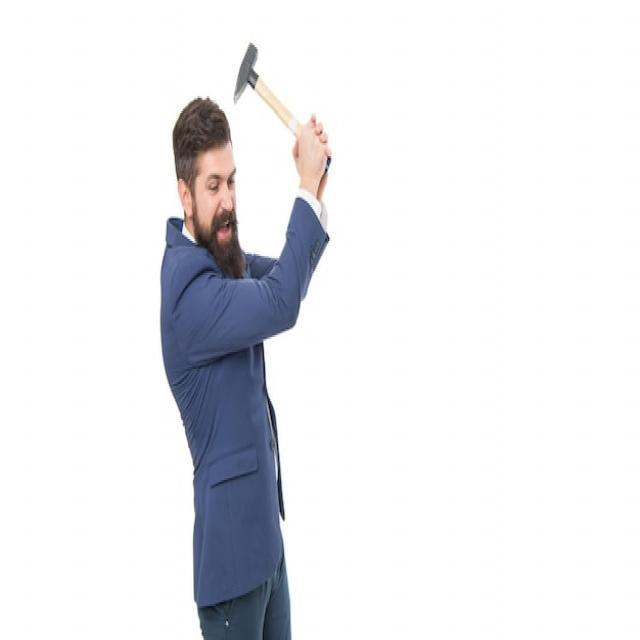hammer: (230, 35, 336, 176)
